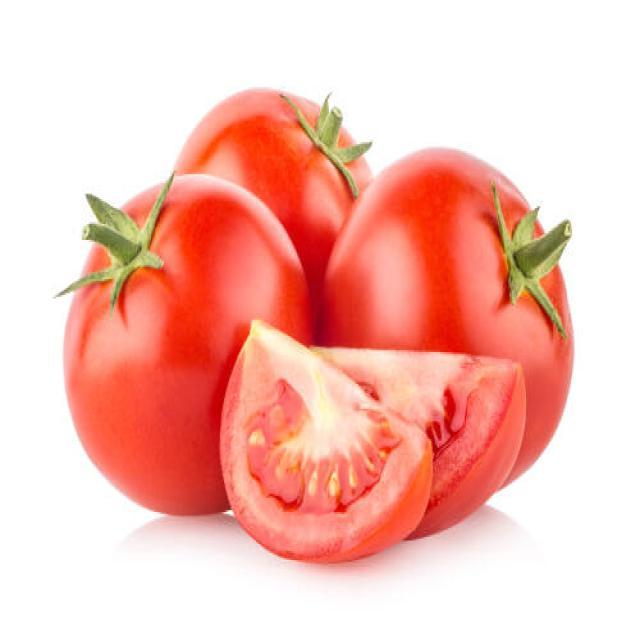kirmizi: (60, 66, 574, 564)
